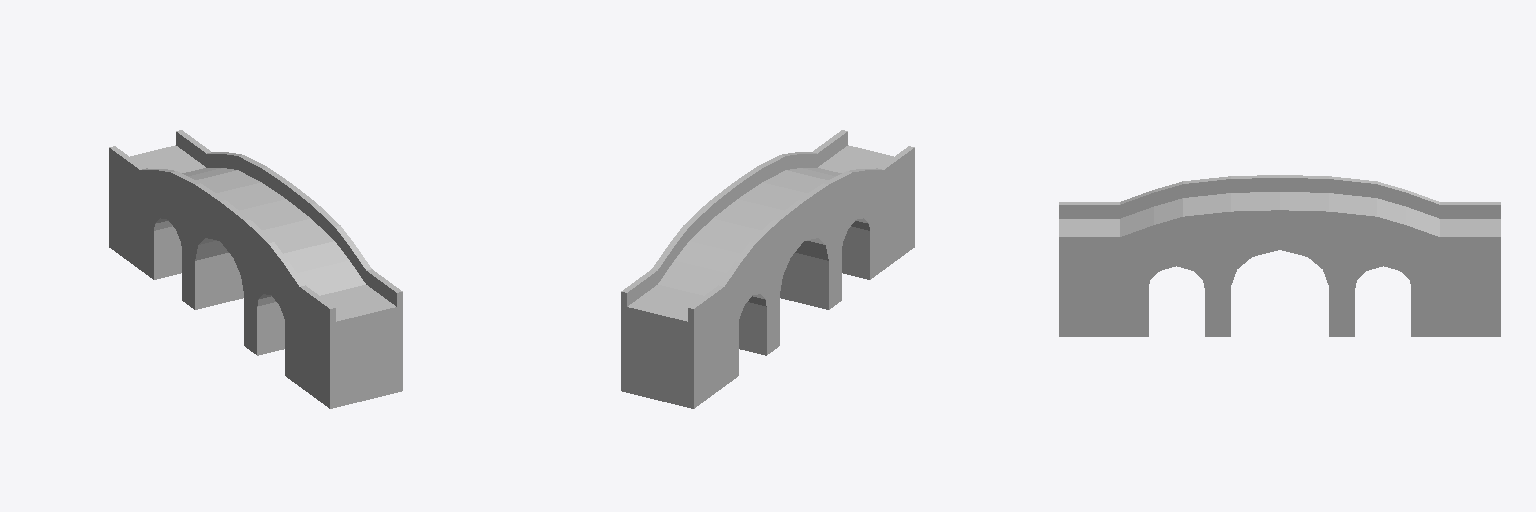
File: Bridge.obj
3 renders of one model, left to right at view 1: azimuth 30°, elevation 25°; view 2: azimuth 150°, elevation 25°; view 3: azimuth 270°, elevation 25°, orthographic.
Parts seen in each view (by area): view 1: Cube; view 2: Cube; view 3: Cube.
Part boxes in pixels (bbox=[...]): Cube: bbox=[109, 130, 402, 408]; Cube: bbox=[621, 130, 914, 408]; Cube: bbox=[1059, 175, 1500, 336].
Bounding box in the file's own units: 1.2 × 2 × 6.32.